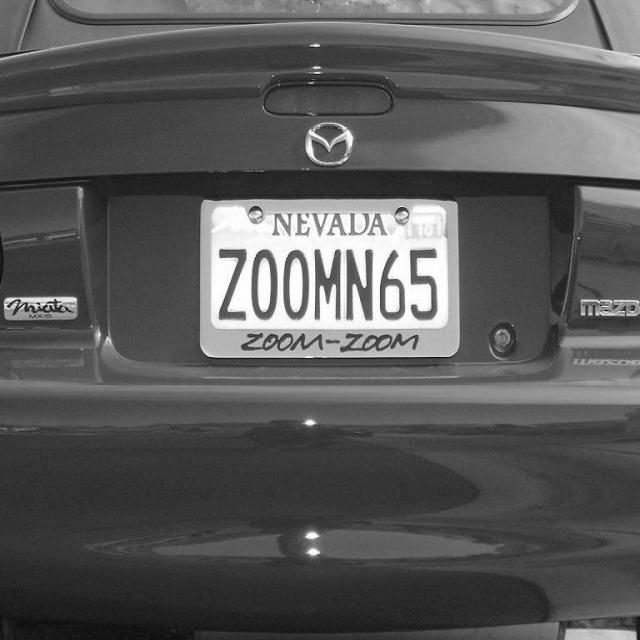license-plate: (210, 206, 455, 352)
